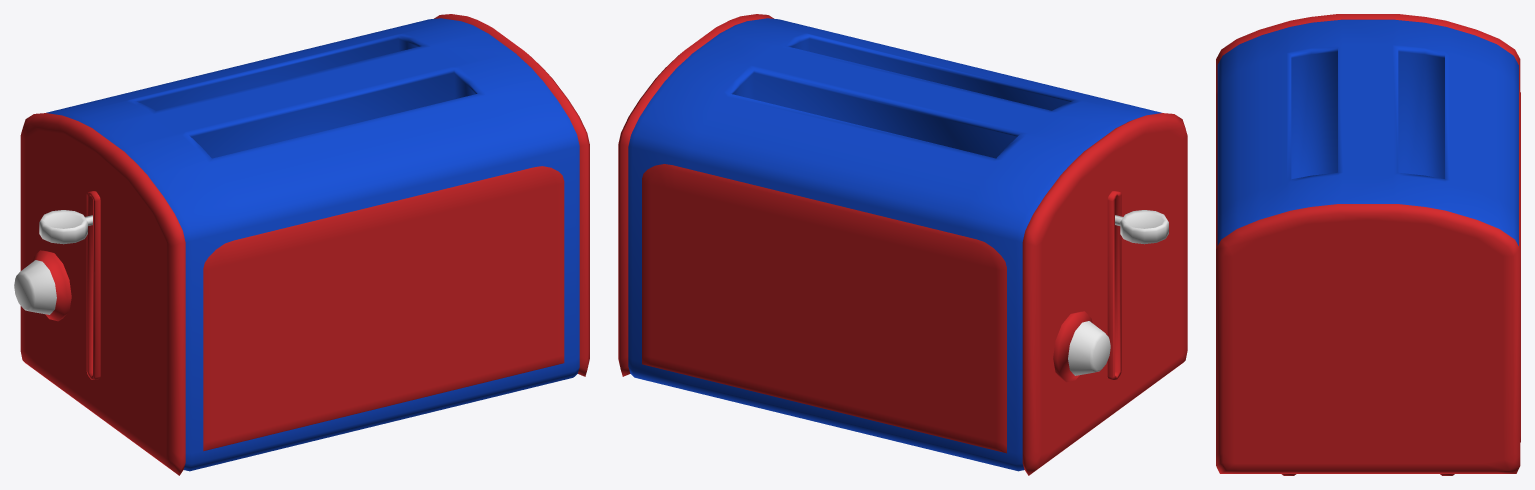
The model's file is MOD_APP_Toaster_01.fbx.
The picture shows the model from 3 angles, left to right: view 1: azimuth 30°, elevation 25°; view 2: azimuth 150°, elevation 25°; view 3: azimuth 270°, elevation 25°; orthographic projection. The views are drawn at different scales.
Visible parts, largest first — view 1: MOD_APP_Toaster_01, MOD_APP_Toaster_01_Dial_01, MOD_APP_Toaster_01_Lever_01; view 2: MOD_APP_Toaster_01, MOD_APP_Toaster_01_Dial_01, MOD_APP_Toaster_01_Lever_01; view 3: MOD_APP_Toaster_01.
Part boxes in pixels (left/top/right/bottom): MOD_APP_Toaster_01: left=20, top=14, right=589, bottom=475; MOD_APP_Toaster_01_Dial_01: left=14, top=260, right=56, bottom=314; MOD_APP_Toaster_01_Lever_01: left=39, top=210, right=92, bottom=244; MOD_APP_Toaster_01: left=618, top=14, right=1187, bottom=475; MOD_APP_Toaster_01_Dial_01: left=1068, top=321, right=1110, bottom=375; MOD_APP_Toaster_01_Lever_01: left=1115, top=210, right=1168, bottom=244; MOD_APP_Toaster_01: left=1216, top=14, right=1520, bottom=475.
Bounding box in the file's own units: 0.3466 × 0.2095 × 0.2022.
